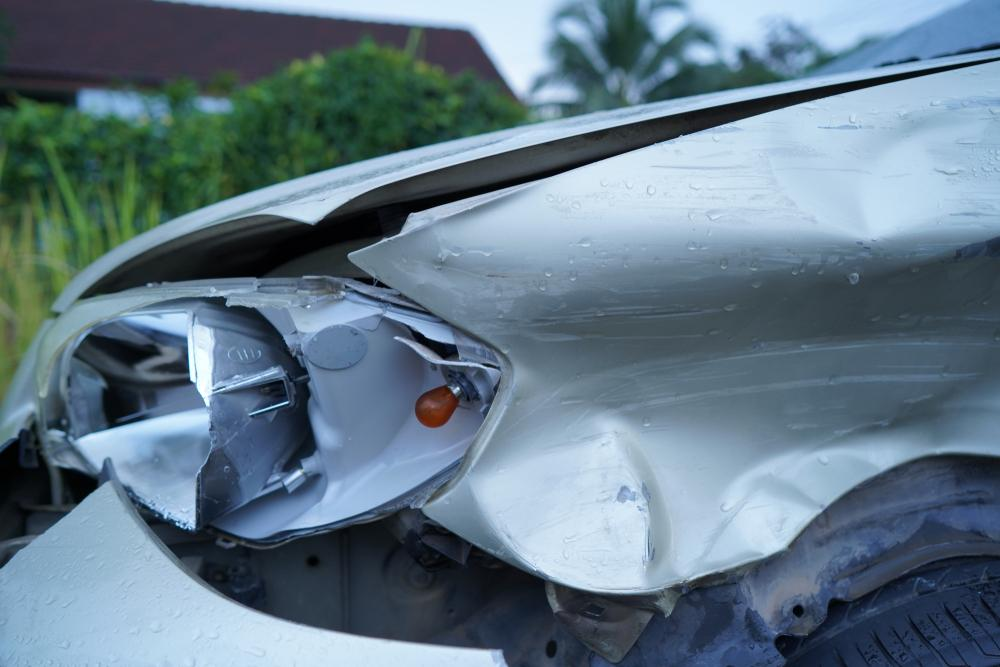dent: (466, 104, 1000, 586)
lamp broken: (43, 277, 514, 542)
